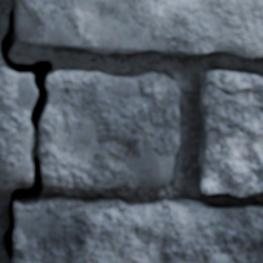brick: (10, 195, 262, 262), (14, 0, 262, 58), (200, 72, 262, 196)
broken_brick: (42, 70, 183, 191), (0, 66, 36, 182)
crack: (0, 2, 54, 260)
